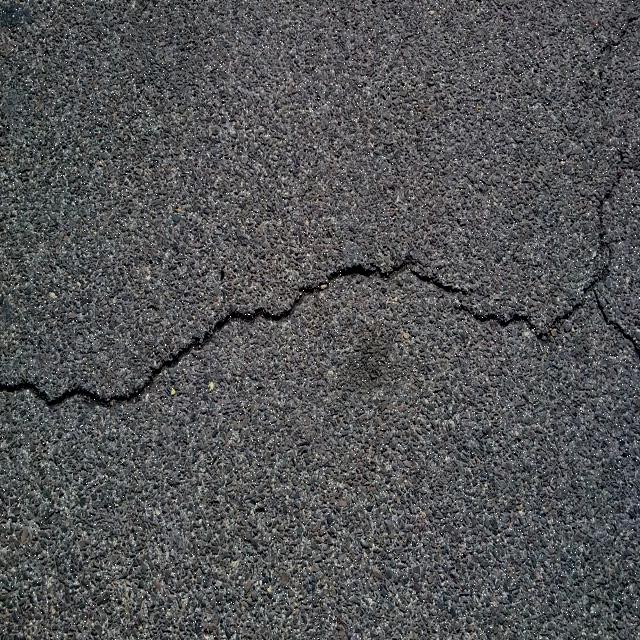Crack: (0, 145, 640, 419)
